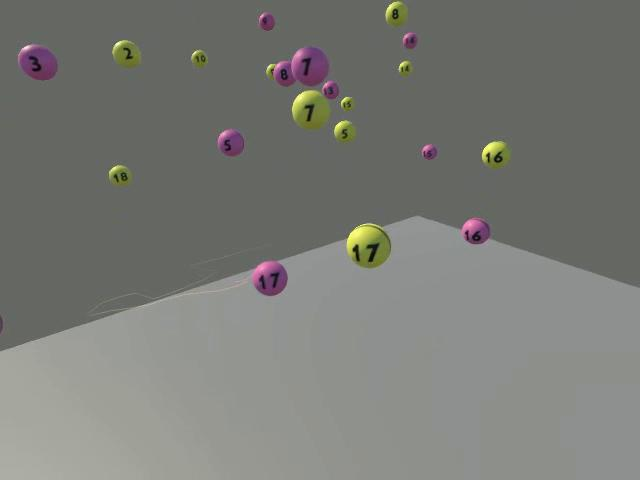ball_02_yellow: (111, 40, 140, 68)
ball_03_pink: (17, 44, 57, 80)
ball_05_pink: (217, 129, 244, 156)
ball_05_yellow: (333, 120, 356, 143)
ball_07_pink: (291, 45, 328, 86)
ball_07_yellow: (291, 89, 329, 129)
ball_08_pink: (274, 61, 294, 86)
ball_08_yellow: (385, 0, 408, 26)
ball_09_pink: (258, 12, 274, 30)
ball_10_yellow: (191, 49, 207, 67)
ball_13_pink: (322, 81, 339, 99)
ball_14_pink: (402, 32, 418, 49)
ball_14_yellow: (398, 60, 411, 75)
ball_15_pink: (421, 143, 437, 159)
ball_15_yellow: (340, 96, 354, 111)
ball_16_pink: (461, 217, 489, 245)
ball_16_yellow: (481, 141, 509, 167)
ball_17_pink: (251, 260, 287, 296)
ball_17_yellow: (346, 223, 391, 268)
ball_18_yellow: (107, 165, 131, 187)
ball_unknown: (265, 63, 276, 79), (0, 314, 3, 334)
